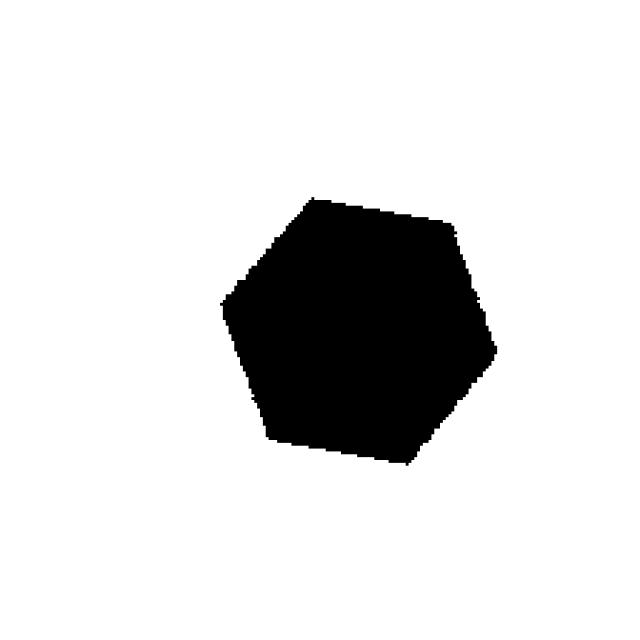Hexagon: (199, 154, 560, 527)
